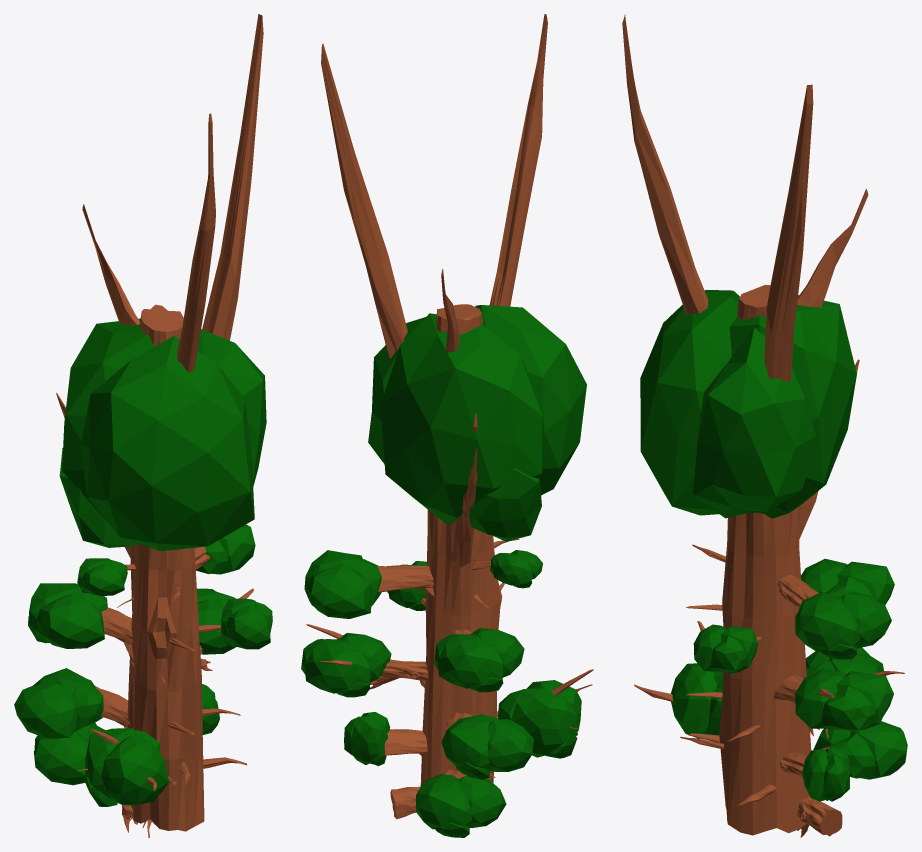
File: tree.fbx
3 renders of one model, left to right at view 1: azimuth 30°, elevation 25°; view 2: azimuth 150°, elevation 25°; view 3: azimuth 270°, elevation 25°, orthographic. The views are drawn at different scales.
Parts seen in each view (by area): view 1: Icosphere, Cylinder, Cylinder.010, Icosphere.004, Icosphere.005, Icosphere.007, Icosphere.001, Icosphere.010, Icosphere.002, Icosphere.011, Icosphere.006, Cylinder.007 (+3 smaller); view 2: Icosphere, Cylinder, Cylinder.010, Icosphere.005, Icosphere.004, Icosphere.007, Icosphere.001, Icosphere.006, Icosphere.002, Icosphere.003, Cylinder.011, Icosphere.011 (+4 smaller); view 3: Icosphere, Cylinder, Cylinder.010, Icosphere.006, Icosphere.002, Icosphere.001, Icosphere.004, Icosphere.007, Icosphere.010, Icosphere.003, Icosphere.005, Cylinder.004 (+3 smaller).
Boxes of the visible parts, <box> form: Icosphere: <box>59,318,266,550</box>; Cylinder: <box>56,14,262,831</box>; Cylinder.010: <box>56,14,263,828</box>; Icosphere.004: <box>85,728,168,806</box>; Icosphere.005: <box>14,668,103,738</box>; Icosphere.007: <box>28,583,107,648</box>; Icosphere.001: <box>34,722,105,785</box>; Icosphere.010: <box>220,598,272,649</box>; Icosphere.002: <box>196,524,255,574</box>; Icosphere.011: <box>77,558,127,595</box>; Icosphere.006: <box>197,588,236,654</box>; Cylinder.007: <box>101,607,221,683</box>; Icosphere: <box>368,305,586,541</box>; Cylinder: <box>321,15,547,786</box>; Cylinder.010: <box>321,14,547,784</box>; Icosphere.005: <box>441,714,533,779</box>; Icosphere.004: <box>498,680,581,758</box>; Icosphere.007: <box>434,628,524,692</box>; Icosphere.001: <box>416,774,506,837</box>; Icosphere.006: <box>301,633,391,697</box>; Icosphere.002: <box>304,550,381,618</box>; Icosphere.003: <box>344,712,390,766</box>; Cylinder.011: <box>377,539,519,607</box>; Icosphere.011: <box>490,550,542,588</box>; Icosphere: <box>640,290,856,518</box>; Cylinder: <box>622,15,868,835</box>; Cylinder.010: <box>623,14,859,832</box>; Icosphere.006: <box>795,668,893,730</box>; Icosphere.002: <box>795,591,891,659</box>; Icosphere.001: <box>813,721,907,779</box>; Icosphere.004: <box>671,663,723,738</box>; Icosphere.007: <box>801,558,894,604</box>; Icosphere.010: <box>693,624,758,673</box>; Icosphere.003: <box>802,747,850,801</box>; Icosphere.005: <box>805,647,883,676</box>; Cylinder.004: <box>797,796,842,837</box>.
Bounding box in the file's own units: 23.98 × 76.98 × 24.42.
